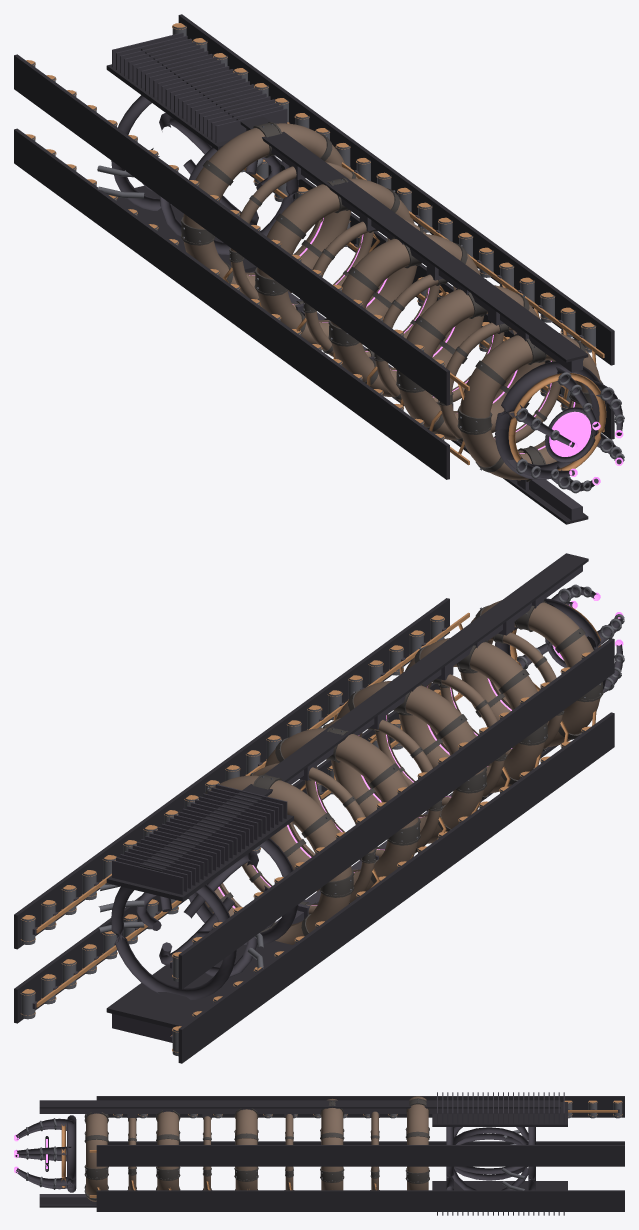
The model's file is dread_lance.glb.
3 views of the same model, one above another, from view 1: azimuth 30°, elevation 25°; view 2: azimuth 150°, elevation 25°; view 3: azimuth 270°, elevation 25° (orthographic). The views are drawn at different scales.
Visible parts, largest first — view 1: lance; view 2: lance; view 3: lance.
Part boxes in pixels (x1,y1,x2,y2): lance: (14,14,624,524); lance: (14,553,624,1063); lance: (14,1092,624,1215).
Size of the model in its own units: 33.31 by 33.31 by 171.
